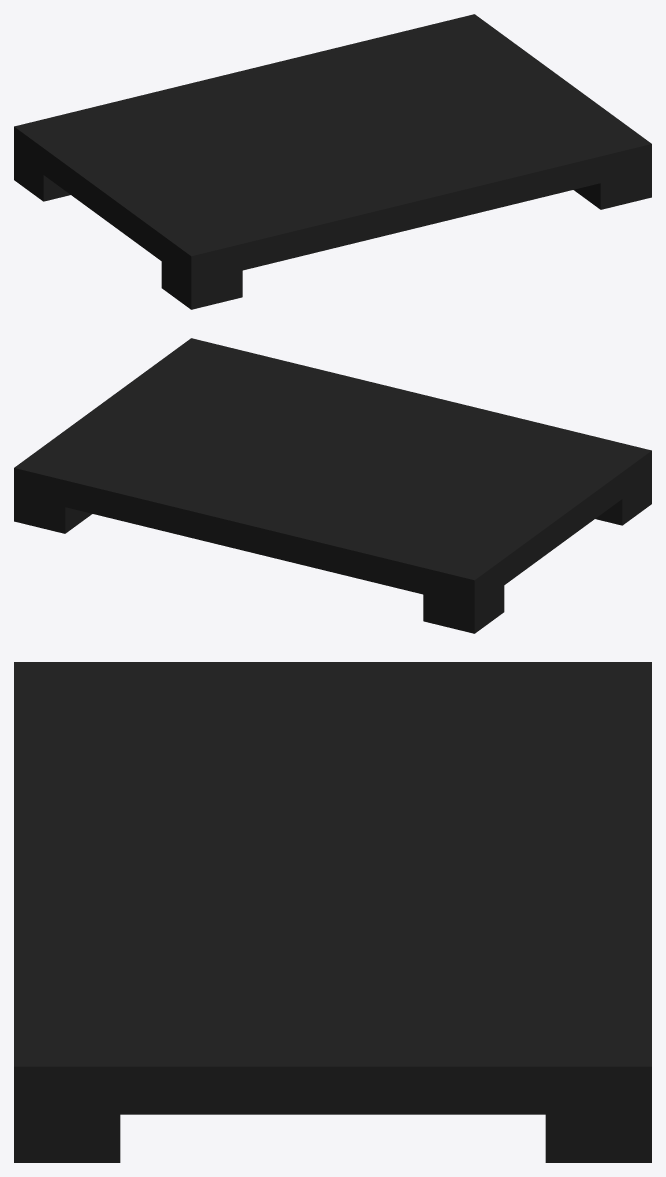
The model's file is FathersCouch-2.obj.
The picture shows the model from 3 angles, top to bottom: view 1: azimuth 30°, elevation 25°; view 2: azimuth 150°, elevation 25°; view 3: azimuth 270°, elevation 25°; orthographic projection. The views are drawn at different scales.
Bounding box in the file's own units: 1.8 × 0.2 × 1.2.
1 material, 1 textured.
